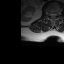CCS_normal: (52, 11, 53, 19)
LFS_normal: (55, 11, 58, 17)
LLS_normal: (54, 12, 55, 18)
RFS_normal: (48, 11, 50, 17)
RLS_normal: (50, 12, 52, 18)
